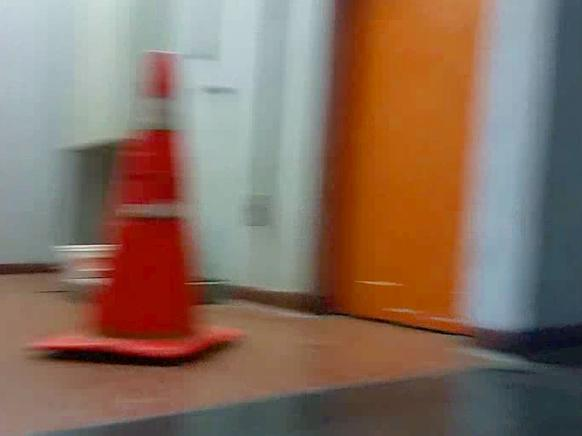0 cone: (22, 51, 244, 358)
